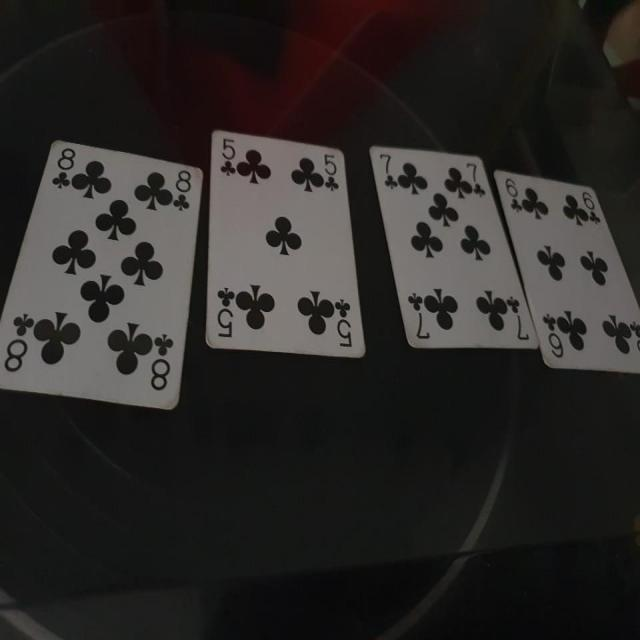5 Trefoils: (201, 131, 368, 361)
6 Trefoils: (494, 166, 640, 369)
7 Trefoils: (367, 142, 542, 350)
8 Trefoils: (1, 140, 203, 410)
